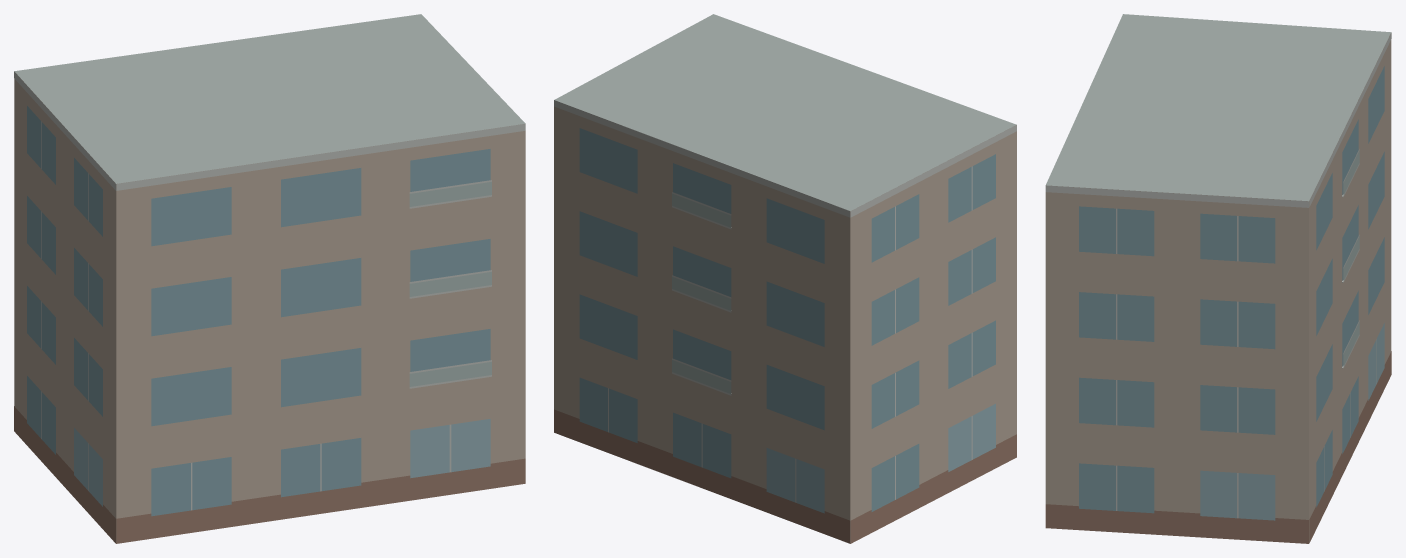
Rendered from survey-upis-32939851.glb.
3 renders of one model, left to right at view 1: azimuth 30°, elevation 25°; view 2: azimuth 150°, elevation 25°; view 3: azimuth 270°, elevation 25°, orthographic. The views are drawn at different scales.
Parts seen in each view (by area): view 1: survey-upis-32939851.tmp; view 2: survey-upis-32939851.tmp; view 3: survey-upis-32939851.tmp.
Boxes of the visible parts, left/top/right/bottom form: survey-upis-32939851.tmp: left=14, top=14, right=525, bottom=543; survey-upis-32939851.tmp: left=554, top=14, right=1016, bottom=543; survey-upis-32939851.tmp: left=1045, top=14, right=1391, bottom=543.
Bounding box in the file's own units: 14.58 × 12.44 × 11.39.
